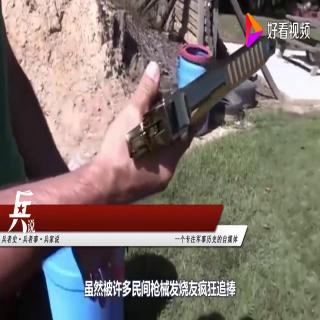gun: (104, 8, 290, 225)
